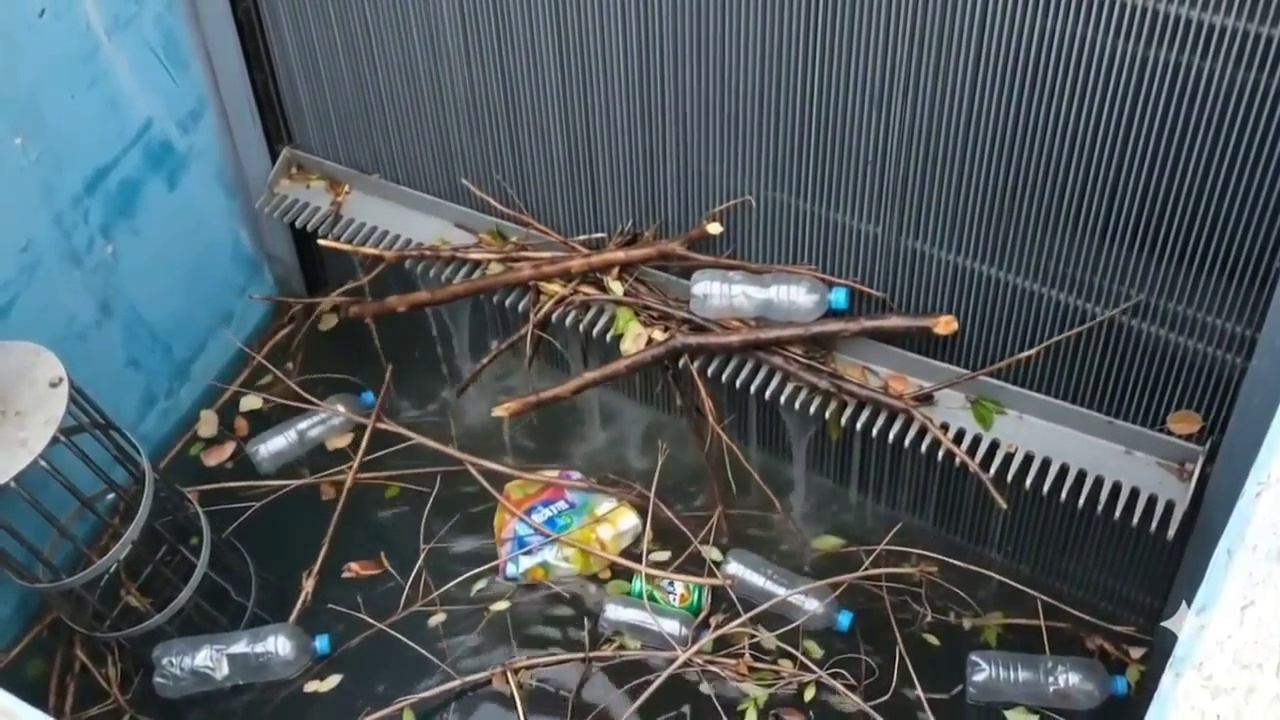debris: (310, 216, 1154, 530), (495, 478, 643, 582), (155, 623, 331, 697), (721, 548, 854, 631), (967, 650, 1130, 709), (600, 572, 708, 647), (248, 411, 351, 473), (330, 391, 374, 414)
